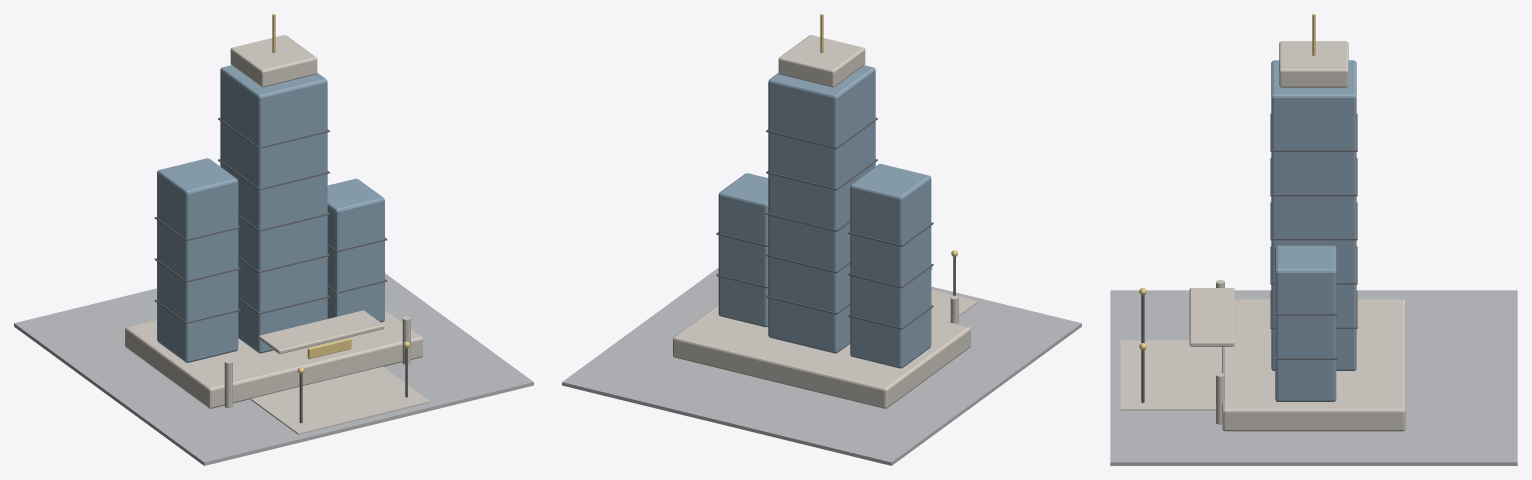
Rendered from finance.glb.
3 views of the same model, side by side, from view 1: azimuth 30°, elevation 25°; view 2: azimuth 150°, elevation 25°; view 3: azimuth 270°, elevation 25° (orthographic). The views are drawn at different scales.
Parts seen in each view (by area): view 1: Ground, TowerA, TowerB, Podium, TowerC, Plaza, Crown, Canopy, Sign; view 2: Ground, TowerA, TowerB, Podium, TowerC, Crown, Plaza; view 3: Ground, TowerA, Podium, TowerC, Plaza, Crown, Canopy.
Boxes of the visible parts, left/top/right/bottom form: Ground: left=14, top=273, right=533, bottom=465; TowerA: left=220, top=65, right=327, bottom=353; TowerB: left=157, top=158, right=238, bottom=362; Podium: left=125, top=310, right=422, bottom=408; TowerC: left=327, top=178, right=384, bottom=322; Plaza: left=251, top=366, right=430, bottom=434; Crown: left=230, top=35, right=317, bottom=87; Canopy: left=258, top=310, right=384, bottom=354; Sign: left=307, top=338, right=351, bottom=359; Ground: left=562, top=268, right=1081, bottom=465; TowerA: left=768, top=65, right=875, bottom=353; TowerB: left=850, top=164, right=931, bottom=368; Podium: left=673, top=304, right=970, bottom=408; TowerC: left=718, top=173, right=768, bottom=327; Crown: left=778, top=35, right=865, bottom=87; Plaza: left=931, top=290, right=978, bottom=322; Ground: left=1110, top=290, right=1517, bottom=465; TowerA: left=1271, top=60, right=1356, bottom=370; Podium: left=1222, top=299, right=1405, bottom=431; TowerC: left=1275, top=245, right=1336, bottom=401; Plaza: left=1120, top=340, right=1222, bottom=410; Crown: left=1279, top=41, right=1348, bottom=87; Canopy: left=1189, top=288, right=1234, bottom=346.
Size of the model in its own units: 20 by 19.8 by 20.
